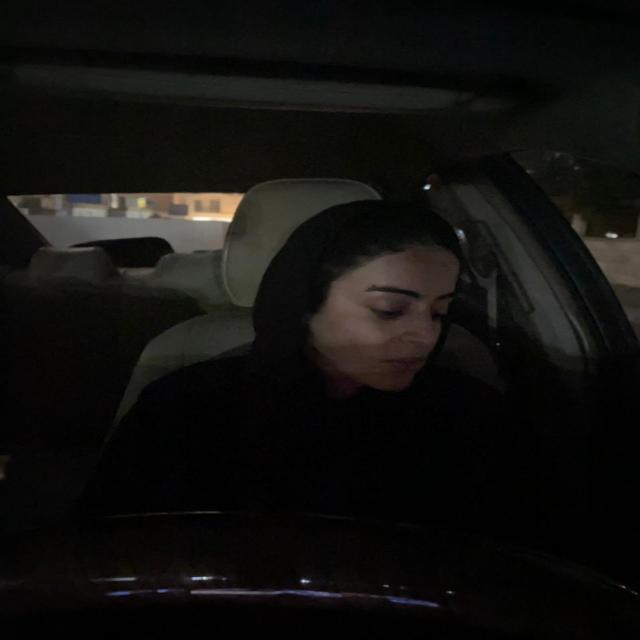person: (284, 234, 454, 396)
